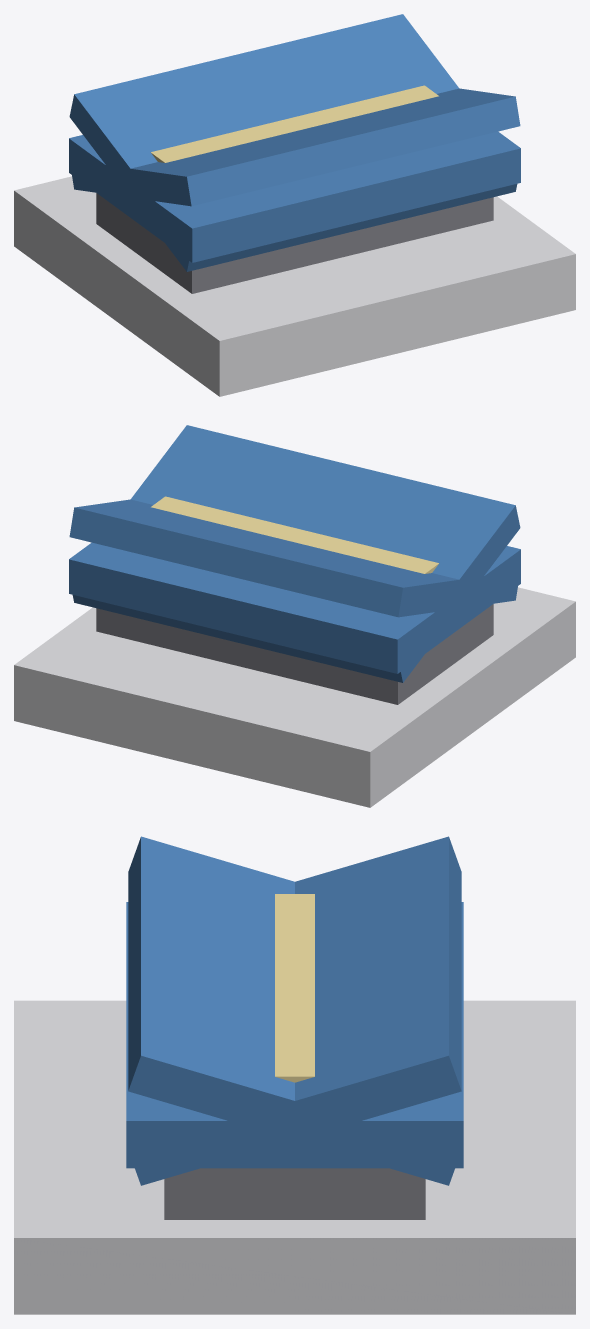
The model's file is third_platform_blue_house.glb.
3 views of the same model, one above another, from view 1: azimuth 30°, elevation 25°; view 2: azimuth 150°, elevation 25°; view 3: azimuth 270°, elevation 25° (orthographic). The views are drawn at different scales.
Parts seen in each view (by area): view 1: Cube, Cube.003, Cube.002, Cube.004, Cube.001, Cube.005; view 2: Cube, Cube.004, Cube.002, Cube.003, Cube.001, Cube.005; view 3: Cube, Cube.004, Cube.003, Cube.002, Cube.001, Cube.005.
Boxes of the visible parts, x1,y1,x2,y2 form: Cube: [14, 176, 575, 396]; Cube.003: [69, 14, 517, 271]; Cube.002: [69, 131, 520, 262]; Cube.004: [72, 88, 520, 206]; Cube.001: [96, 193, 493, 293]; Cube.005: [151, 85, 438, 162]; Cube: [14, 587, 575, 807]; Cube.004: [72, 425, 520, 682]; Cube.002: [69, 542, 520, 673]; Cube.003: [69, 499, 517, 617]; Cube.001: [96, 604, 493, 704]; Cube.005: [151, 496, 438, 573]; Cube: [14, 1000, 575, 1314]; Cube.004: [128, 836, 460, 1185]; Cube.003: [129, 836, 461, 1185]; Cube.002: [126, 902, 463, 1168]; Cube.001: [164, 1168, 425, 1219]; Cube.005: [275, 894, 314, 1082].
Bounding box in the file's own units: 3.2 × 1.59 × 3.2.
